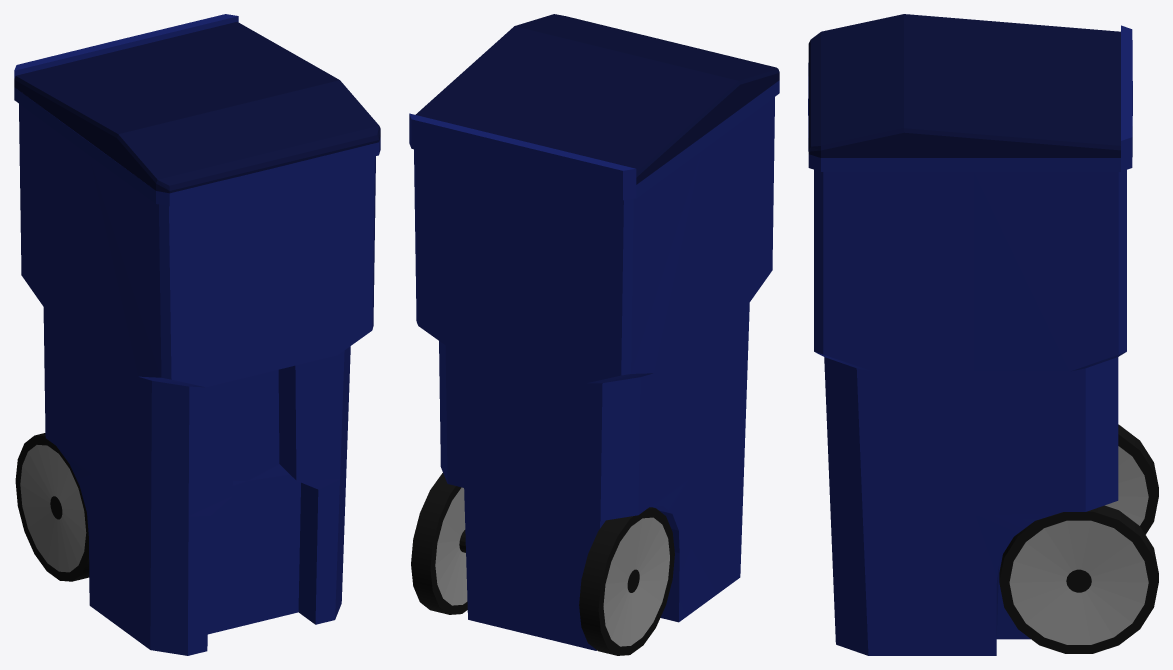
File: Dustbin_FoodWaste.FBX
3 renders of one model, left to right at view 1: azimuth 30°, elevation 25°; view 2: azimuth 150°, elevation 25°; view 3: azimuth 270°, elevation 25°, orthographic. The views are drawn at different scales.
Parts seen in each view (by area): view 1: Box002; view 2: Box002; view 3: Box002.
Part boxes in pixels (x1,y1,x2,y2): Box002: (14,14,380,655); Box002: (409,14,779,655); Box002: (808,14,1158,655).
Bounding box in the file's own units: 0.4465 × 0.9612 × 0.5704.
